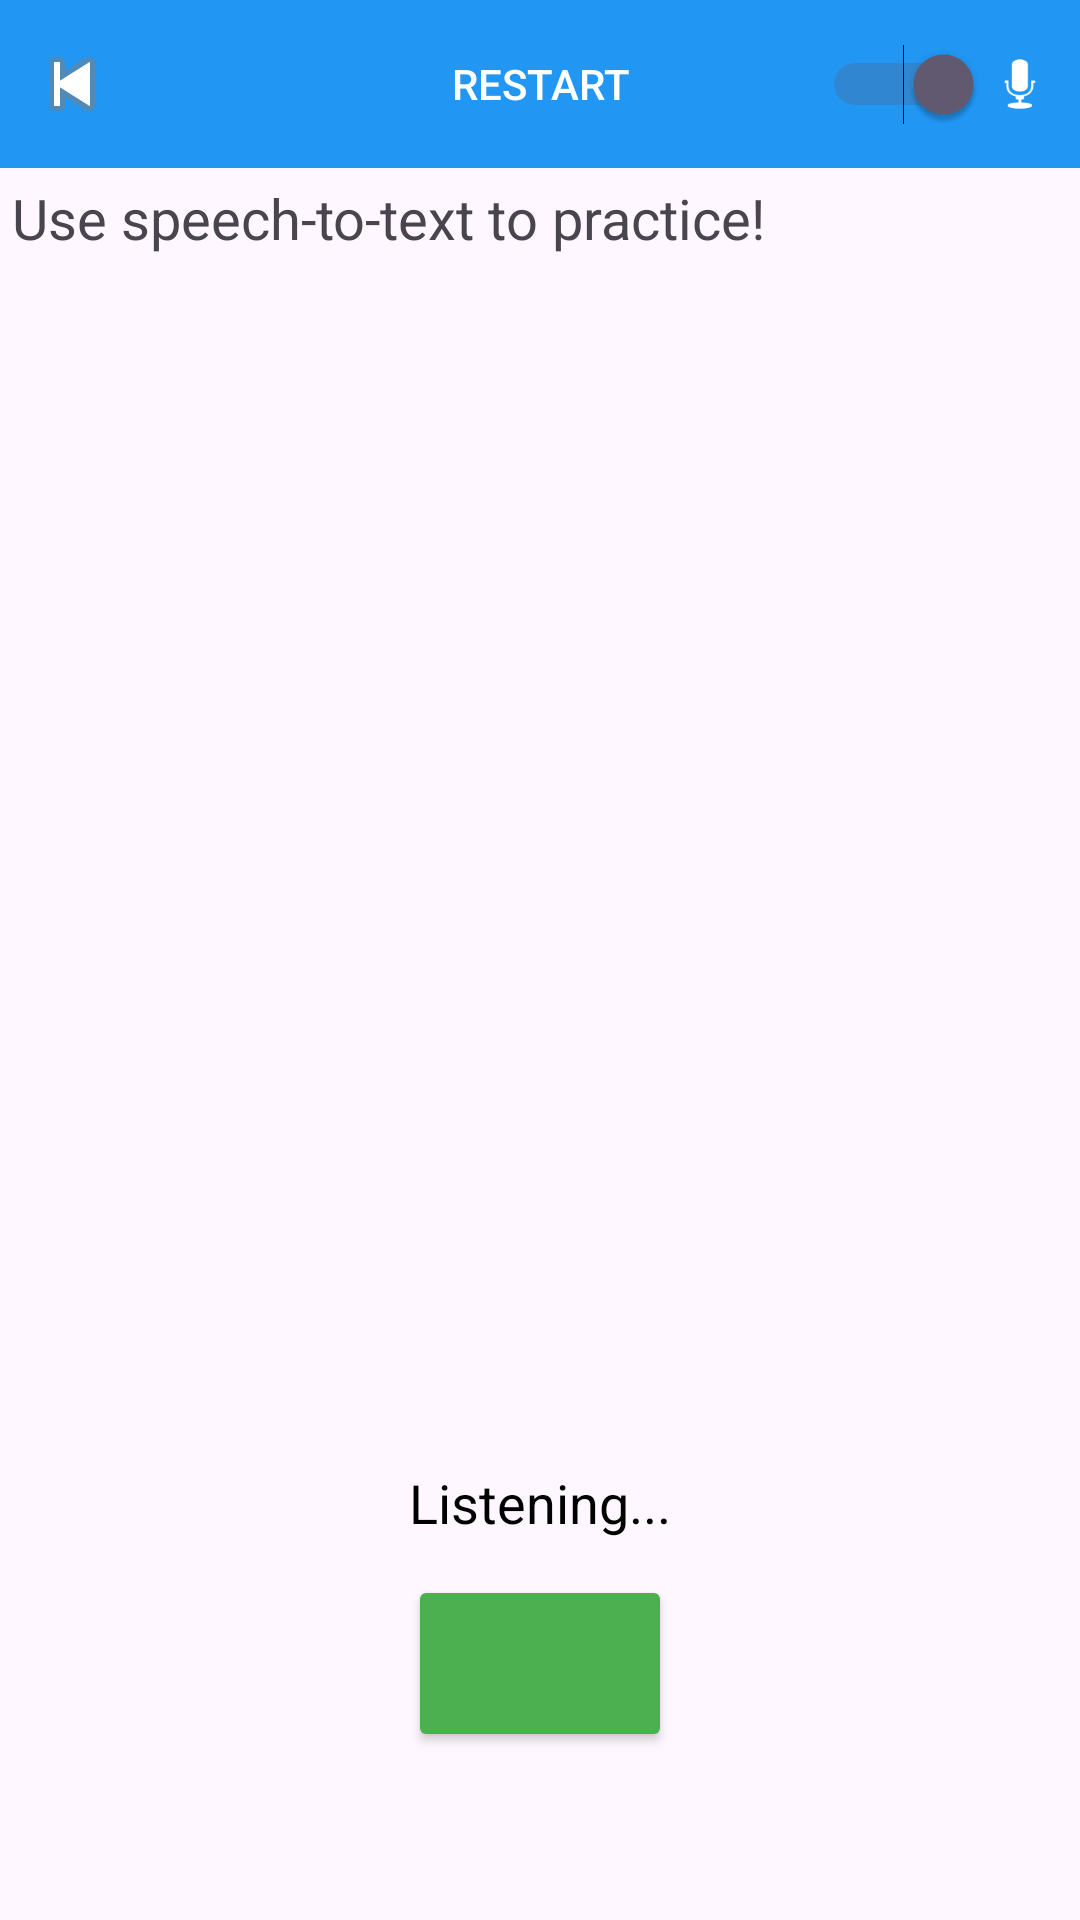

Point at icon controls on the screen. Image size 1080*1920, points as point (x, y).
Back: point (72, 84)
Mic: point (1020, 84)
